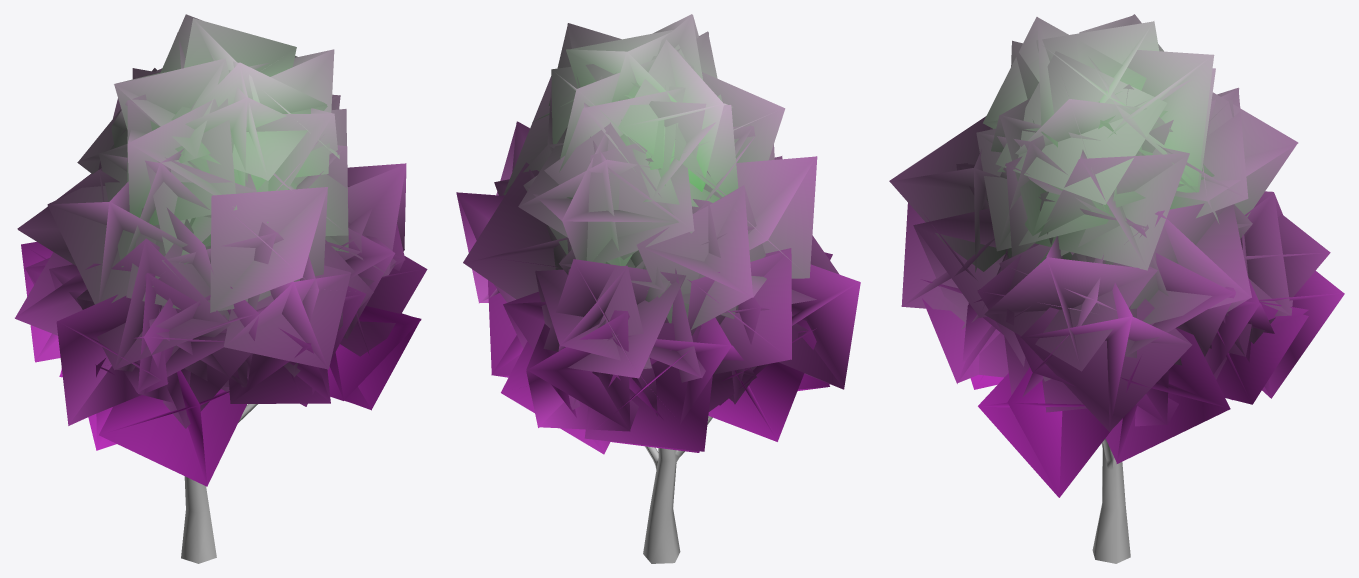
Rendered from YB_Tree_S_1.fbx.
The picture shows the model from 3 angles, left to right: view 1: azimuth 30°, elevation 25°; view 2: azimuth 150°, elevation 25°; view 3: azimuth 270°, elevation 25°; orthographic projection. The views are drawn at different scales.
Visible parts, largest first — view 1: YB_Tree_S_1_leaf, YB_Tree_S_1_trunk; view 2: YB_Tree_S_1_leaf, YB_Tree_S_1_trunk; view 3: YB_Tree_S_1_leaf, YB_Tree_S_1_trunk.
Boxes of the visible parts, x1,y1,x2,y2 form: YB_Tree_S_1_leaf: (15, 14, 427, 486); YB_Tree_S_1_trunk: (181, 404, 257, 563); YB_Tree_S_1_leaf: (456, 14, 860, 454); YB_Tree_S_1_trunk: (643, 416, 712, 563); YB_Tree_S_1_leaf: (889, 14, 1344, 497); YB_Tree_S_1_trunk: (1092, 438, 1130, 563).
Size of the model in its own units: 442 by 597 by 453.
